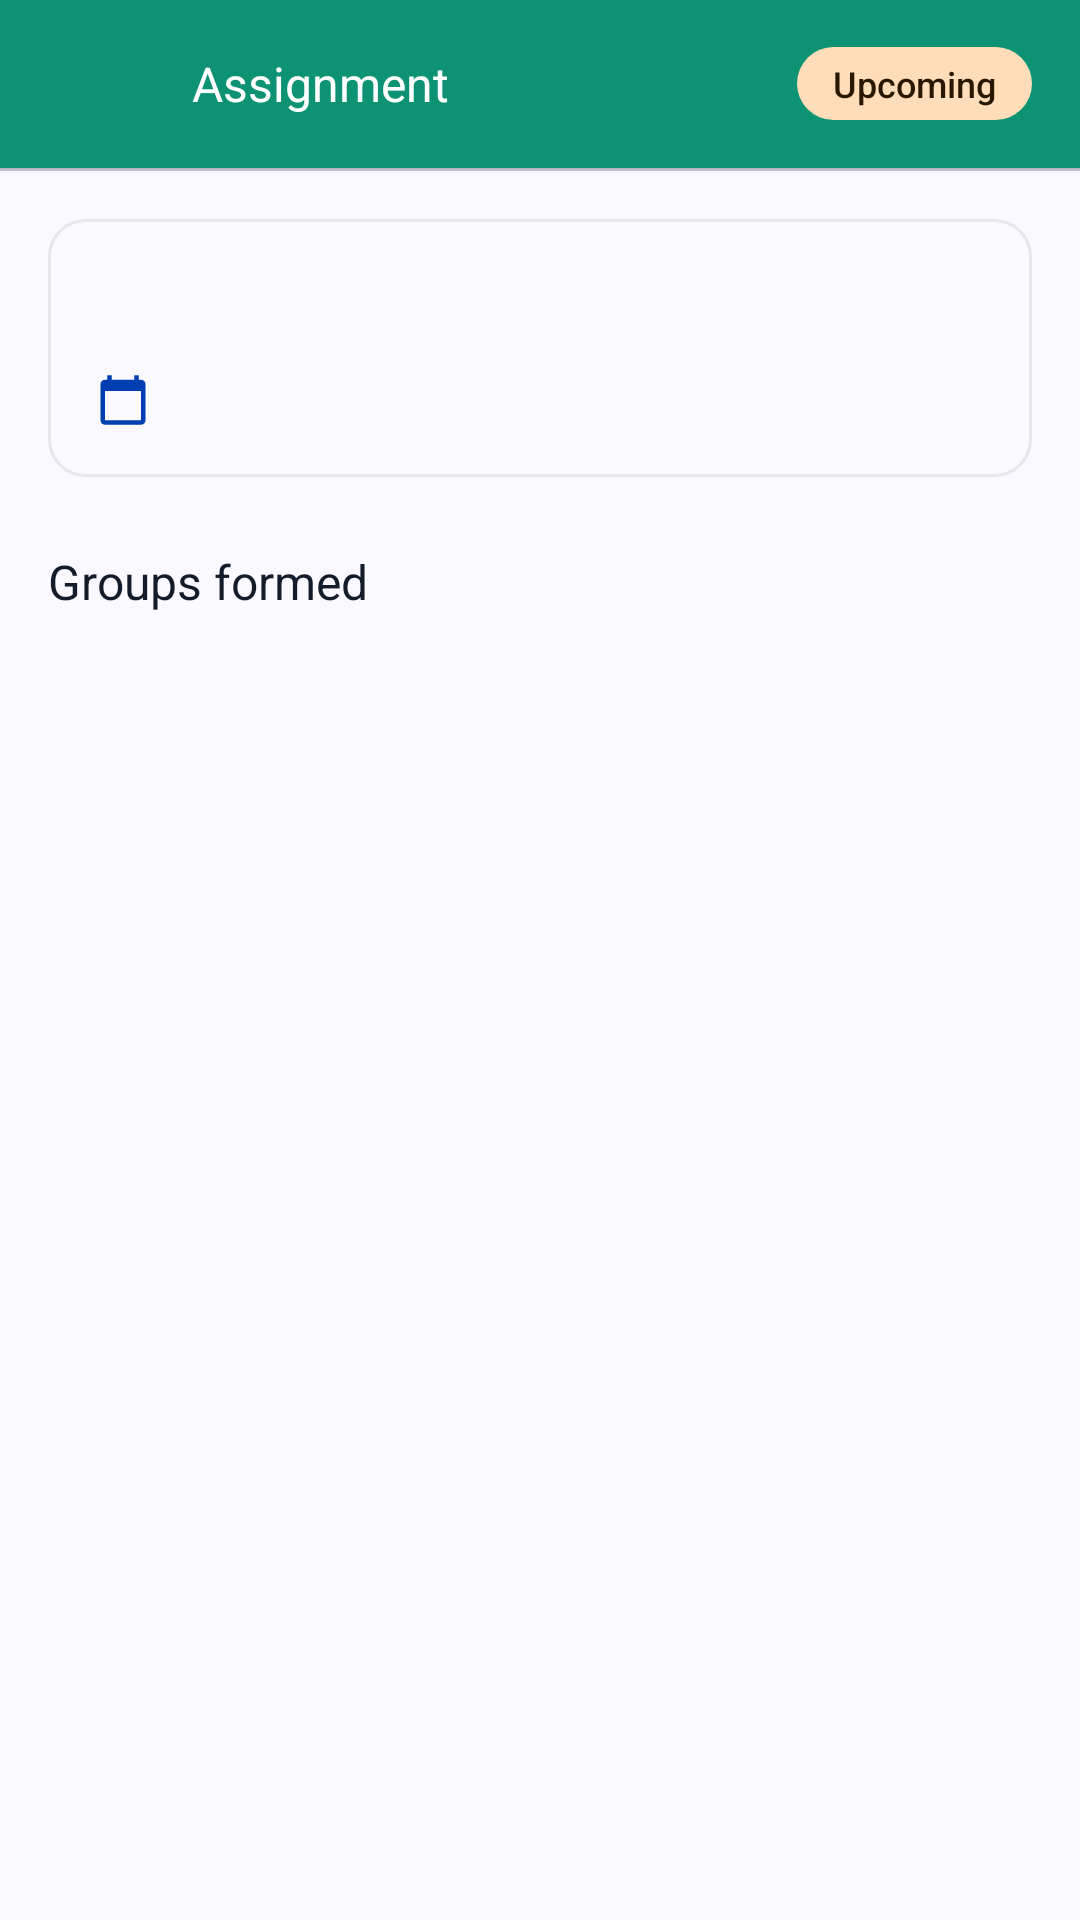

Icons on this 1080*1920 Android screen, each with the point to tap as [x,y]:
calendar: [123,400]
